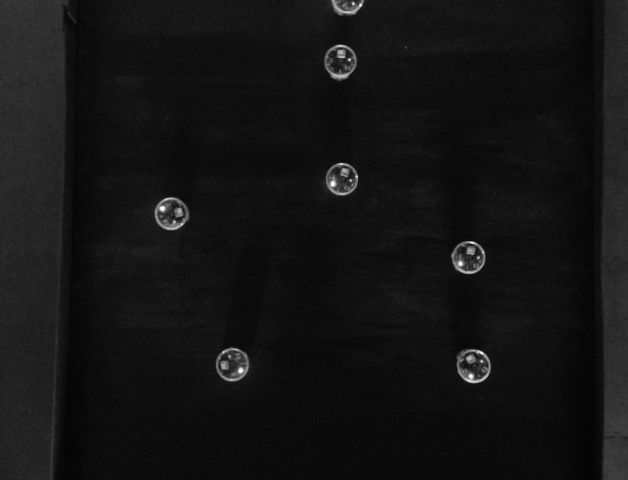epuck_2: (452, 343, 492, 386), (211, 347, 253, 385), (448, 238, 488, 275), (152, 195, 190, 232), (322, 42, 358, 81), (324, 161, 360, 198), (330, 1, 364, 16)
